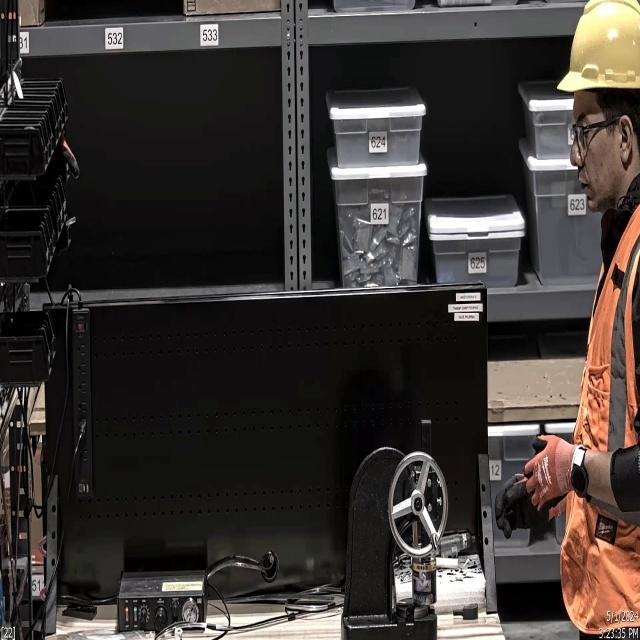construction-gloves: (519, 430, 574, 520)
